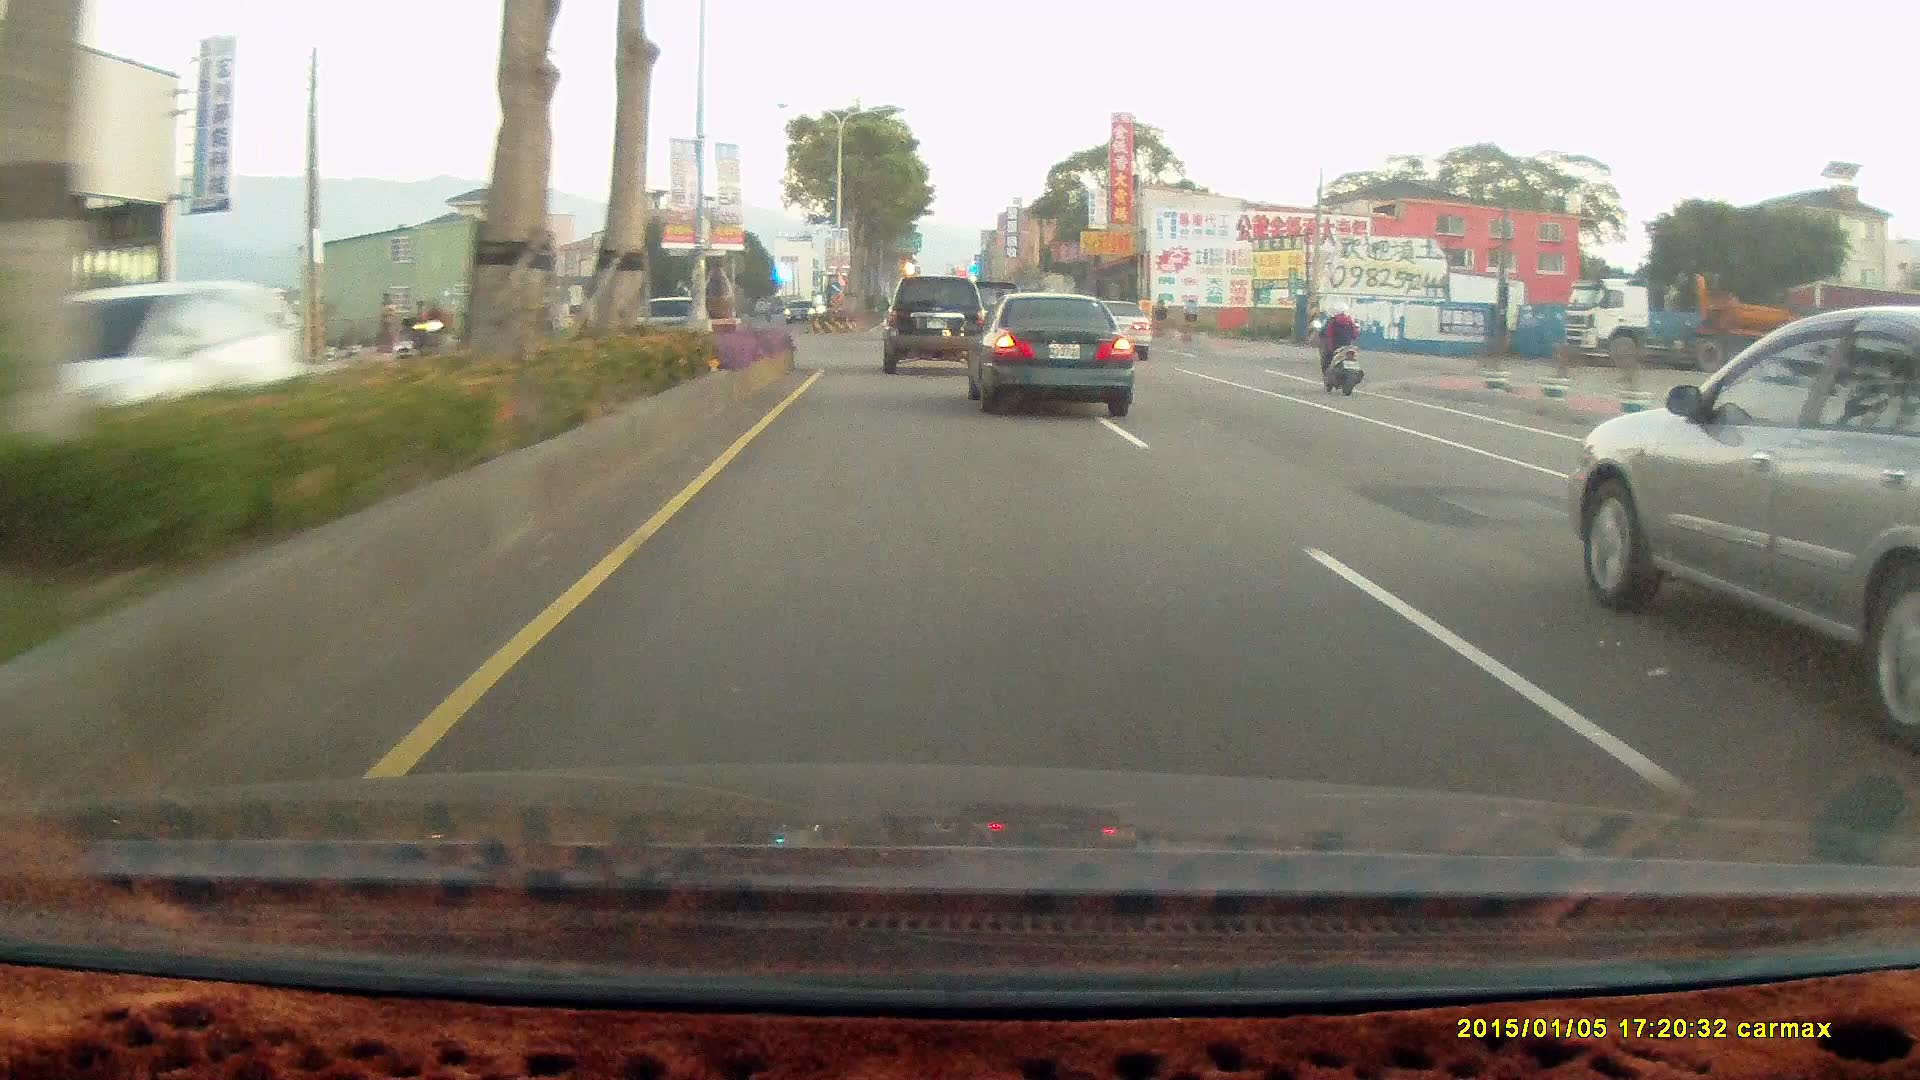rider: (1306, 294, 1373, 402), (1310, 292, 1366, 388), (407, 296, 456, 371)
vehicle: (1567, 305, 1920, 743), (36, 279, 298, 478), (75, 279, 297, 477), (1560, 272, 1920, 372), (959, 288, 1130, 413), (971, 292, 1137, 413), (880, 274, 991, 374), (879, 275, 984, 376), (626, 295, 716, 357), (1075, 298, 1154, 362), (1076, 298, 1155, 363), (782, 299, 817, 323)
